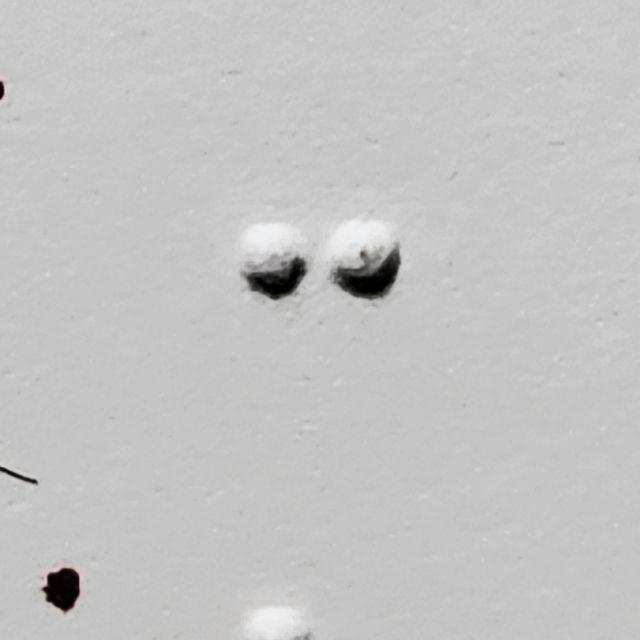c: (240, 222, 401, 433)
